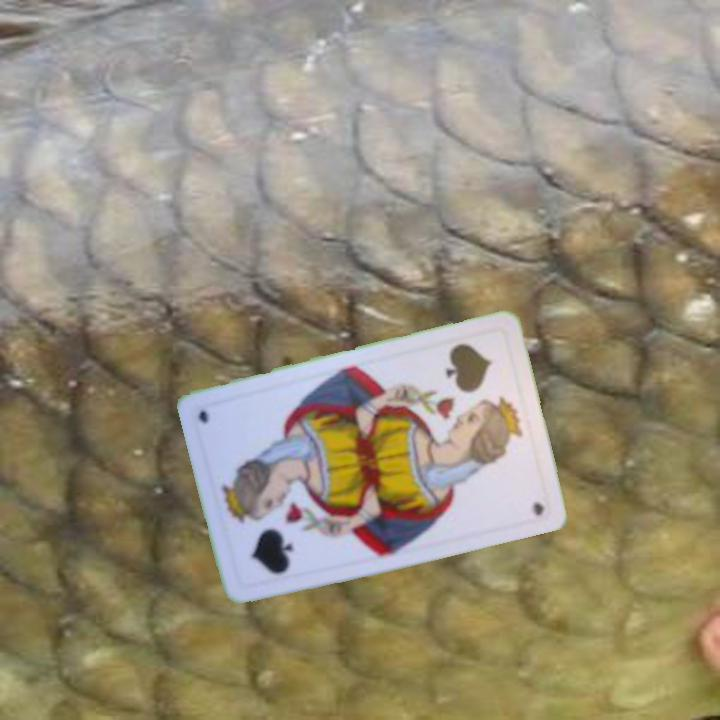s_q.png: (216, 475, 322, 592), (422, 327, 528, 443)
